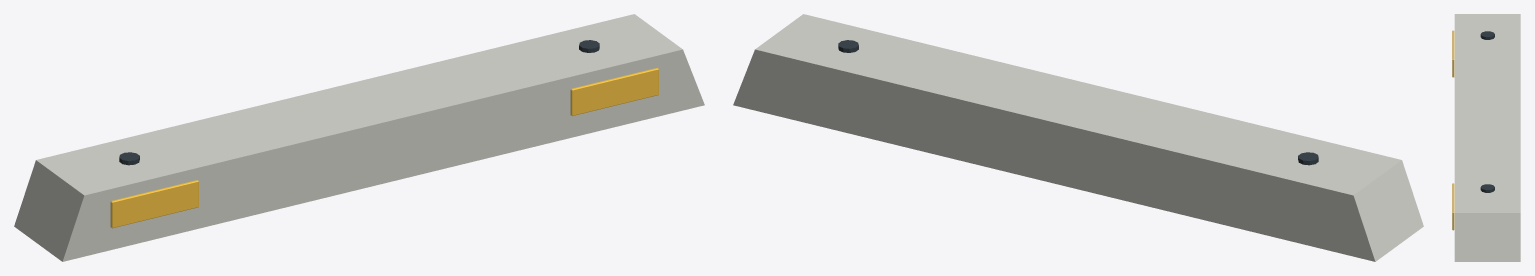
Rendered from Parking_Stop.glb.
3 views of the same model, side by side, from view 1: azimuth 30°, elevation 25°; view 2: azimuth 150°, elevation 25°; view 3: azimuth 270°, elevation 25° (orthographic). The views are drawn at different scales.
Parts seen in each view (by area): view 1: Parking_Stop; view 2: Parking_Stop; view 3: Parking_Stop.
Part boxes in pixels (x1=…): Parking_Stop: x1=14, y1=14, x2=704, y2=261; Parking_Stop: x1=733, y1=14, x2=1423, y2=261; Parking_Stop: x1=1452, y1=14, x2=1520, y2=261.
Bounding box in the file's own units: 1.76 × 0.171 × 0.239.
